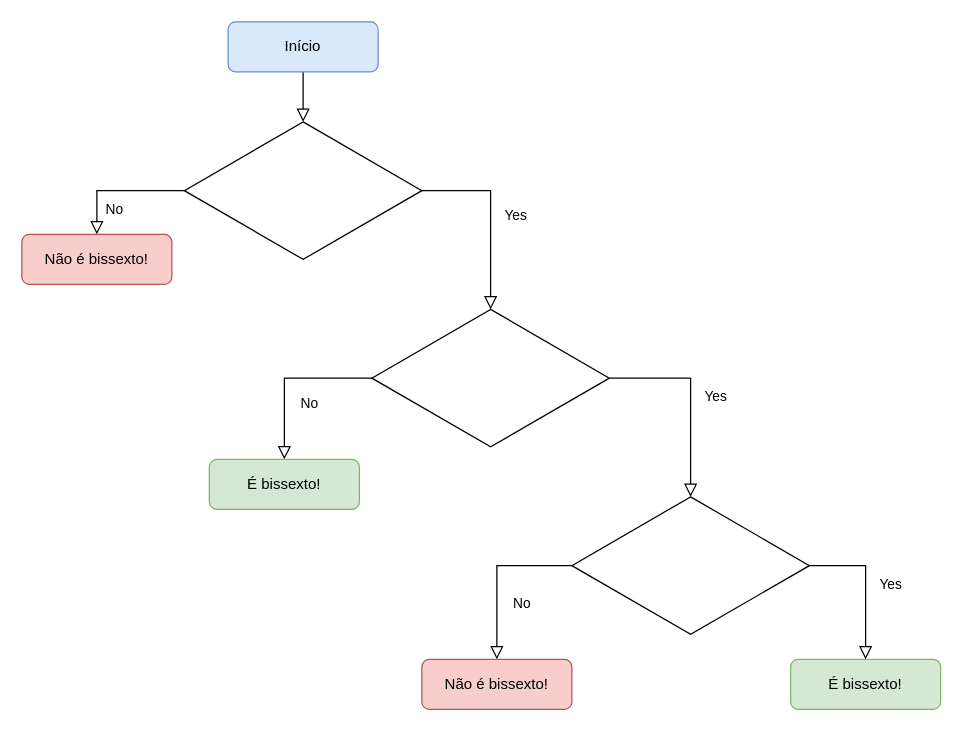
This 963x731 diagram has some shape labels left out. The shapes that lost their labels are listed below. From the top down, each one's centre as x and y in pixels, then its label:
the point at 302,190: É divísivel por 4?
the point at 490,377: É divisível por 100?
the point at 690,565: É divisível por 400?
